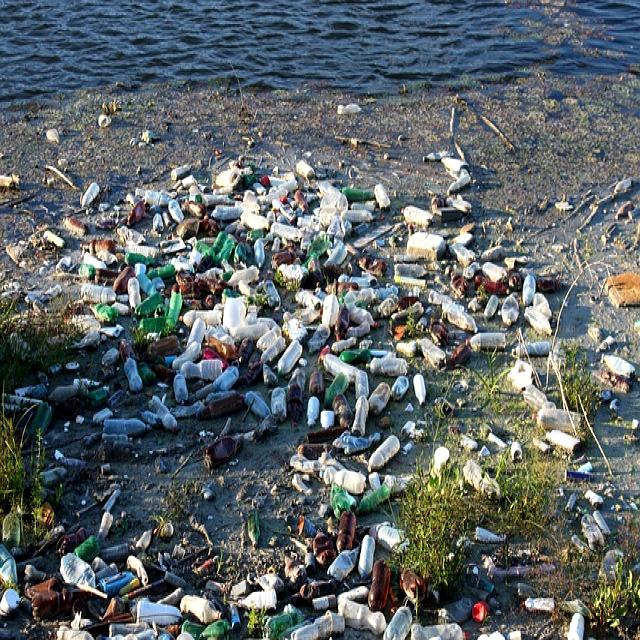Garbage: (0, 157, 638, 640)
